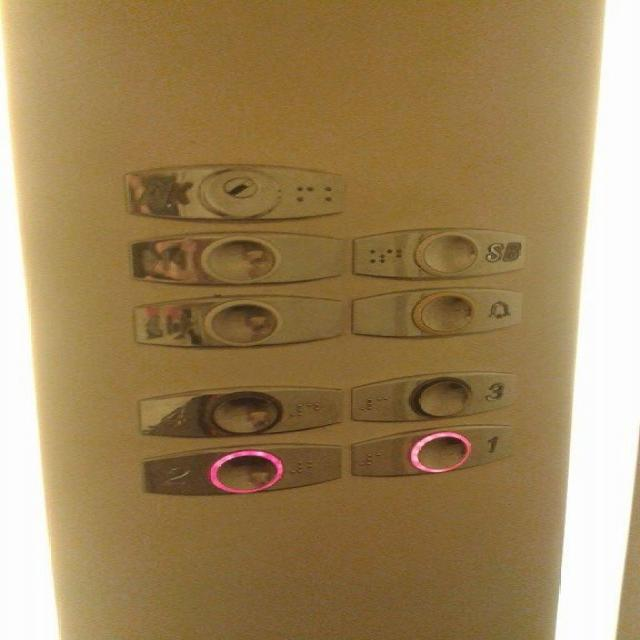1: (346, 422, 516, 477)
2: (140, 442, 346, 496)
3: (349, 370, 520, 422)
4: (134, 384, 346, 438)
SB: (349, 226, 527, 278)
alarm: (349, 287, 523, 340)
bt_keyhole: (116, 161, 346, 219)
close: (130, 232, 346, 285)
open: (127, 292, 346, 348)
